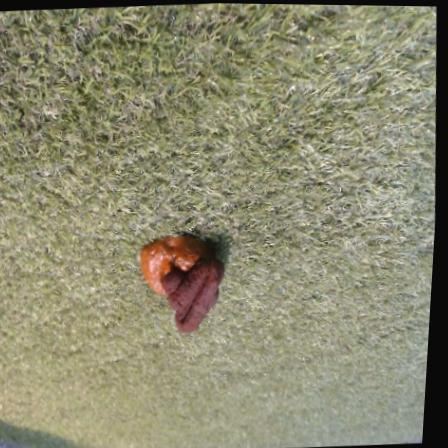dog-poop: (141, 233, 226, 336)
